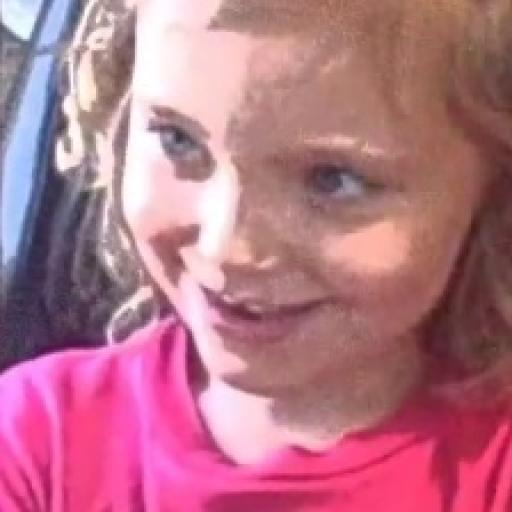Autism: (99, 0, 512, 495)
